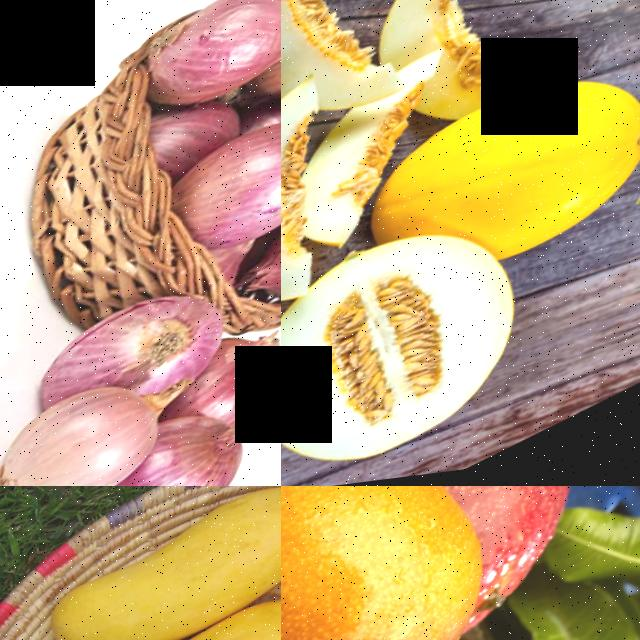mango: (281, 486, 544, 640), (33, 486, 281, 640), (67, 571, 281, 640)
melon: (281, 198, 560, 486), (448, 46, 640, 283), (291, 69, 471, 233), (281, 84, 382, 335), (281, 0, 372, 115), (364, 0, 482, 77)
onion: (28, 273, 236, 416), (0, 365, 186, 486), (123, 0, 281, 133), (177, 101, 281, 272), (70, 423, 279, 486)
